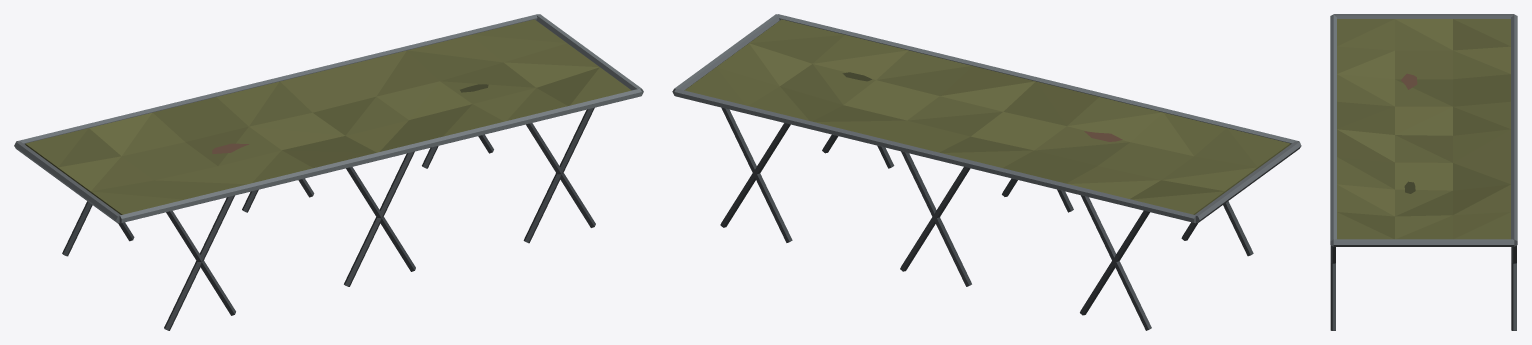
The model's file is cot_medical_skladnaya_idle.glb.
The picture shows the model from 3 angles, left to right: view 1: azimuth 30°, elevation 25°; view 2: azimuth 150°, elevation 25°; view 3: azimuth 270°, elevation 25°; orthographic projection. The views are drawn at different scales.
Visible parts, largest first — view 1: cot_medical_skladnaya_idle; view 2: cot_medical_skladnaya_idle; view 3: cot_medical_skladnaya_idle.
Part boxes in pixels (x1,y1,x2,y2): cot_medical_skladnaya_idle: (14,14,643,330); cot_medical_skladnaya_idle: (672,14,1301,330); cot_medical_skladnaya_idle: (1330,14,1517,330).
Size of the model in its own units: 1.91 by 0.4392 by 0.6617.
1 material, 1 textured.
